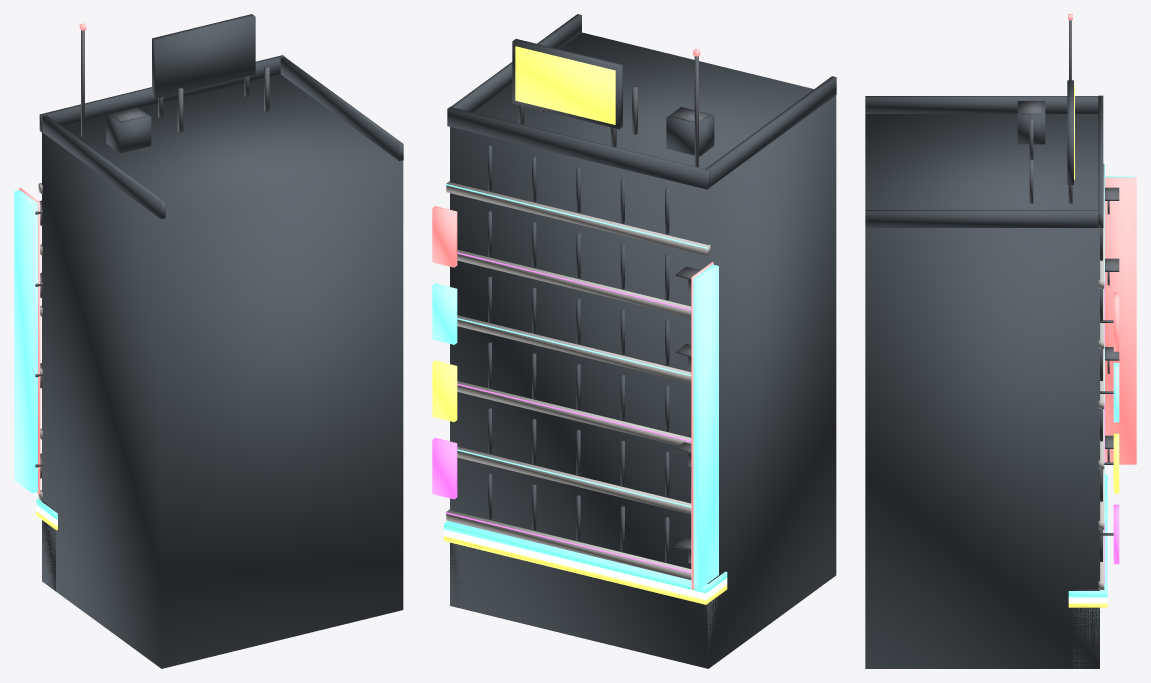
File: tokyo_neon_tower.glb
The picture shows the model from 3 angles, left to right: view 1: azimuth 30°, elevation 25°; view 2: azimuth 150°, elevation 25°; view 3: azimuth 270°, elevation 25°; orthographic projection. The views are drawn at different scales.
Parts seen in each view (by area): view 1: tokyo_neon_tower; view 2: tokyo_neon_tower; view 3: tokyo_neon_tower.
Boxes of the visible parts, bbox=[...] form: tokyo_neon_tower: bbox=[14, 14, 403, 668]; tokyo_neon_tower: bbox=[432, 14, 836, 668]; tokyo_neon_tower: bbox=[865, 14, 1136, 668].
Size of the model in its own units: 14.98 by 31.08 by 13.88.
